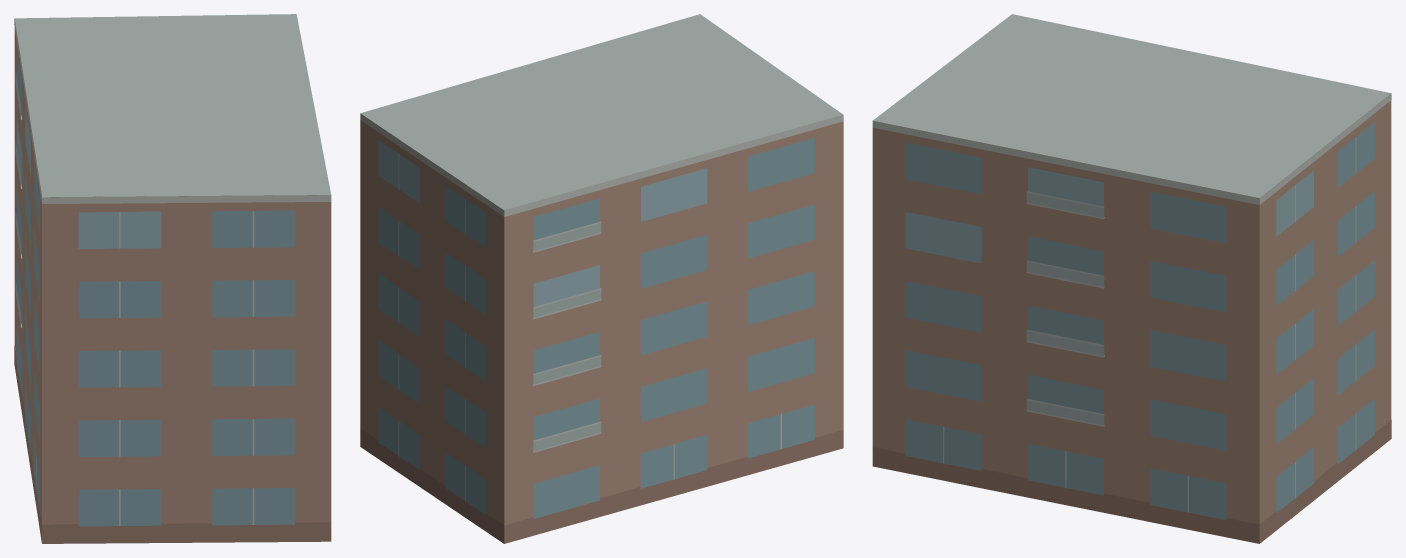
Rendered from survey-upis-32533897.glb.
3 views of the same model, side by side, from view 1: azimuth 30°, elevation 25°; view 2: azimuth 150°, elevation 25°; view 3: azimuth 270°, elevation 25° (orthographic). The views are drawn at different scales.
Visible parts, largest first — view 1: survey-upis-32533897.tmp; view 2: survey-upis-32533897.tmp; view 3: survey-upis-32533897.tmp.
Boxes of the visible parts, x1,y1,x2,y2 form: survey-upis-32533897.tmp: [14, 14, 331, 543]; survey-upis-32533897.tmp: [360, 14, 843, 543]; survey-upis-32533897.tmp: [872, 14, 1391, 543].
Size of the model in its own units: 13.95 by 12.2 by 16.6.
